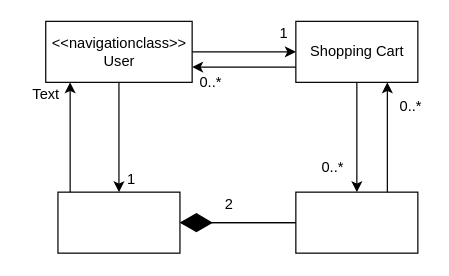
Some shapes in this 449 by 276 pixel diagram are drawn without their labels. Here are the shapes that lost their labels. From the top down, the centre of each, then its label:
At point 118,222: "Catalogue".
At point 356,222: "Item".
